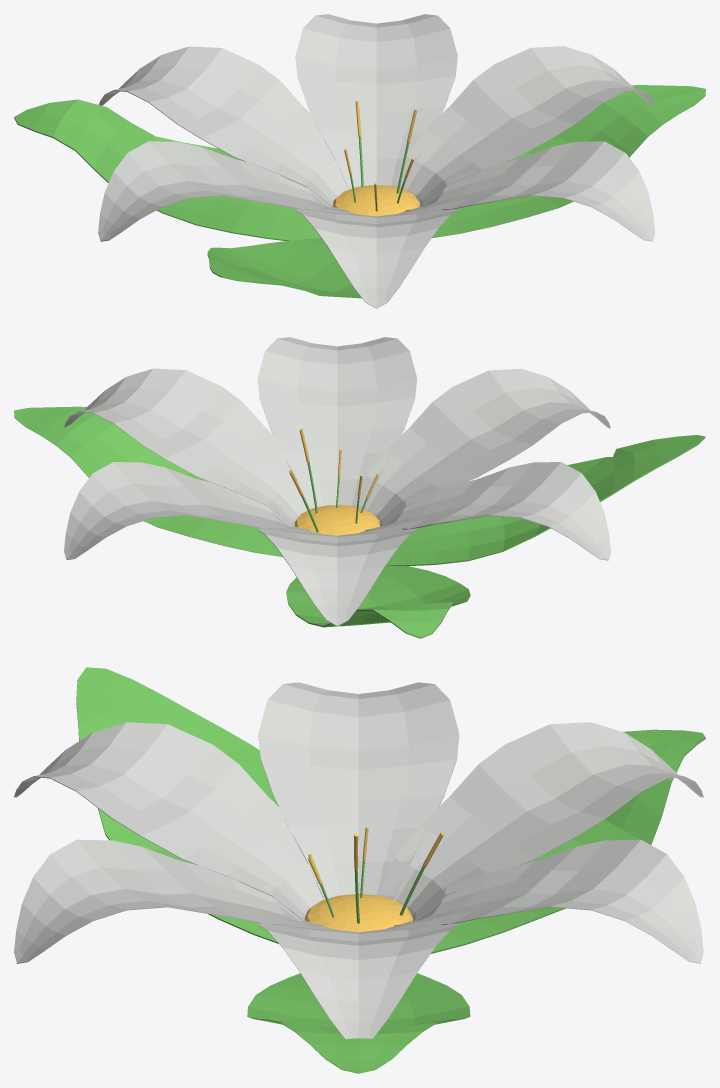
File: Flower_Inteira_.fbx
3 renders of one model, top to bottom at view 1: azimuth 30°, elevation 25°; view 2: azimuth 150°, elevation 25°; view 3: azimuth 270°, elevation 25°, orthographic. The views are drawn at different scales.
Parts seen in each view (by area): view 1: Sphere.018; view 2: Sphere.018; view 3: Sphere.018.
Boxes of the visible parts, x1,y1,x2,y2 form: Sphere.018: [14, 14, 705, 308]; Sphere.018: [14, 337, 705, 638]; Sphere.018: [14, 667, 705, 1073].
Size of the model in its own units: 25.47 by 4.86 by 20.36.
